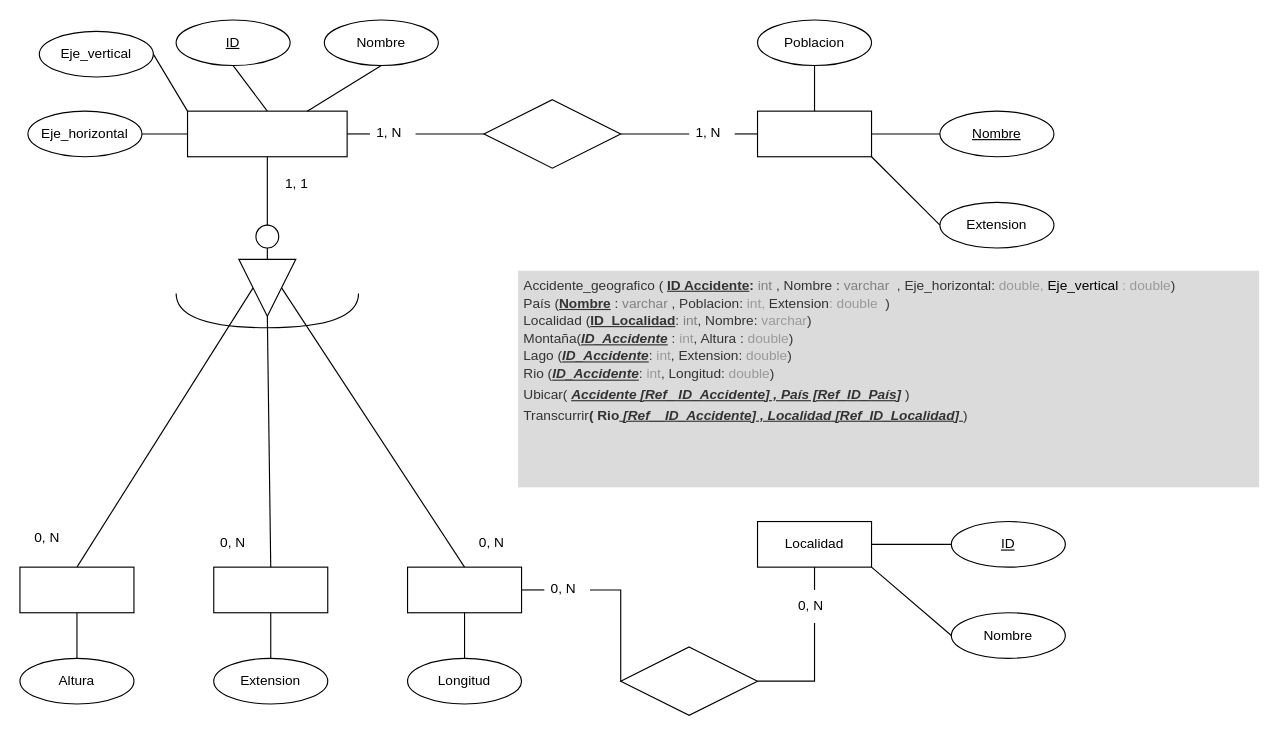
The diagram is 1279 pixels wide and 735 high, and some of its shapes have lost their labels. Here are the shapes that lost their labels. From the top down, the centre of each, then its label:
At (x=266, y=133): "Accidente_geografico".
At (x=552, y=133): "Ubicar".
At (x=814, y=133): "Pais".
At (x=76, y=589): "Montaña".
At (x=270, y=589): "Lago".
At (x=464, y=589): "Rio".
At (x=689, y=680): "Transcurrir".
